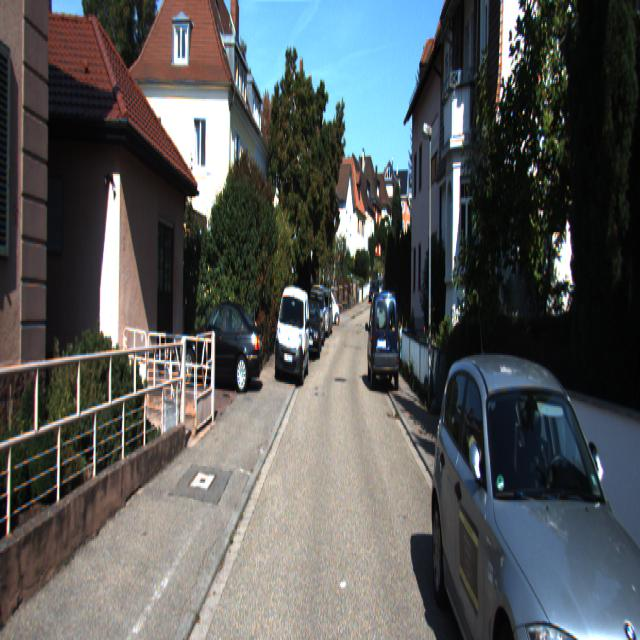Car: (428, 333, 640, 638), (178, 296, 264, 393), (273, 282, 311, 386), (367, 289, 400, 392), (300, 300, 322, 359), (312, 287, 333, 338)
